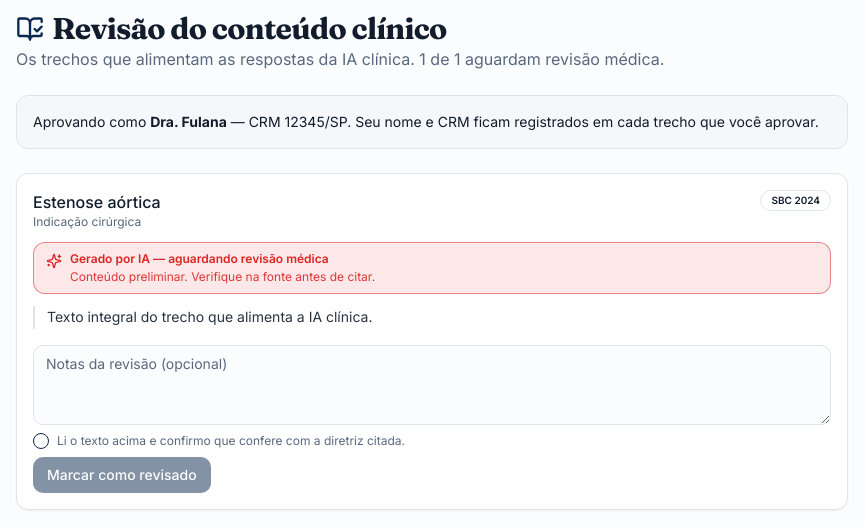
Scenario: AdminConteudo › o botão só habilita depois da confirmação de leitura
Expected: the text "Estenose aórtica" is shown, [33, 192, 161, 212]
Expected: the button "Marcar como revisado" is disabled, [33, 457, 211, 493]
Click the checkbox: point(41, 441) [33, 433, 49, 449]
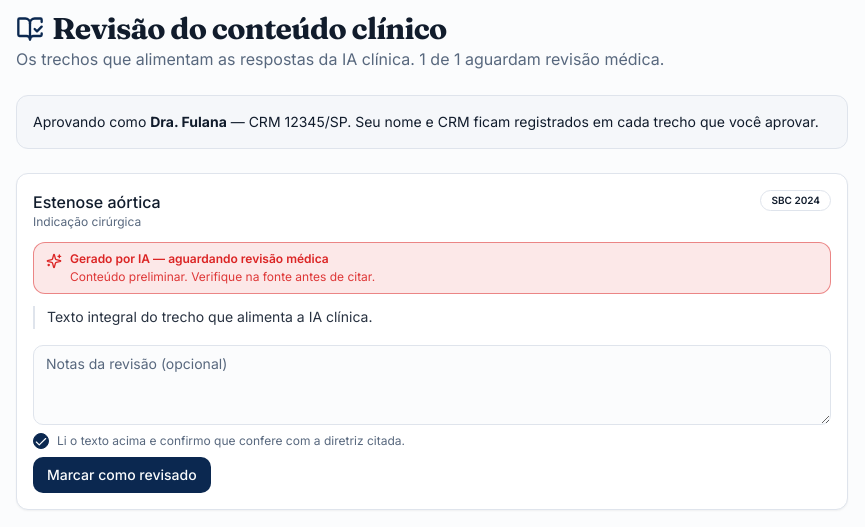
Expected: the button "Marcar como revisado" is enabled, [33, 457, 211, 493]
